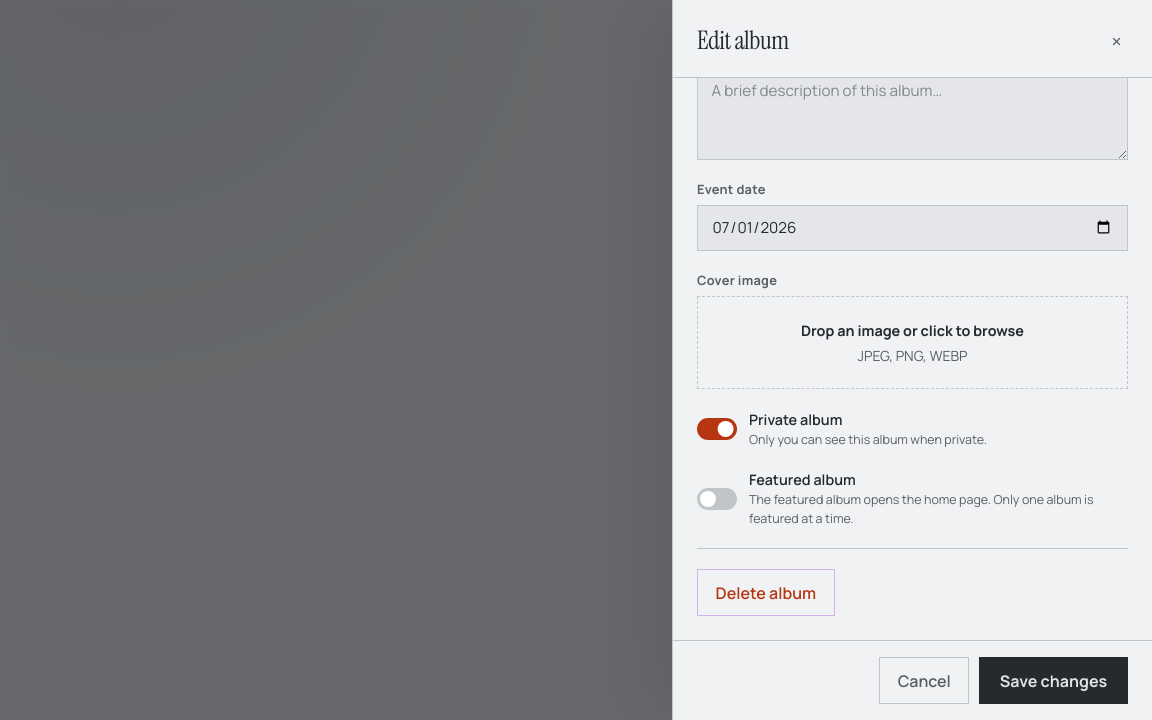
Test case: deleting an album › keeps the form open and shows the error when the delete fails
The width and height of the screenshot is (1152, 720).
(page scrolled)
Click the button "Delete album": (766, 593) [697,569,835,616]
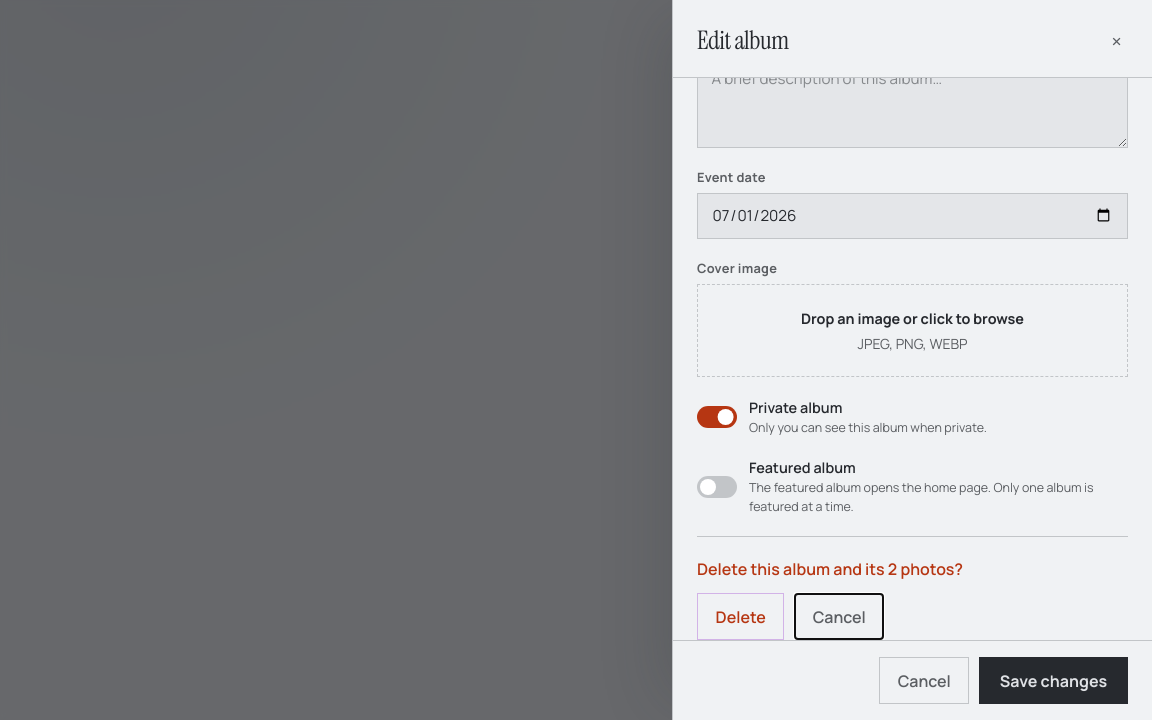
Click the button "Delete": (741, 617) [697,593,784,640]
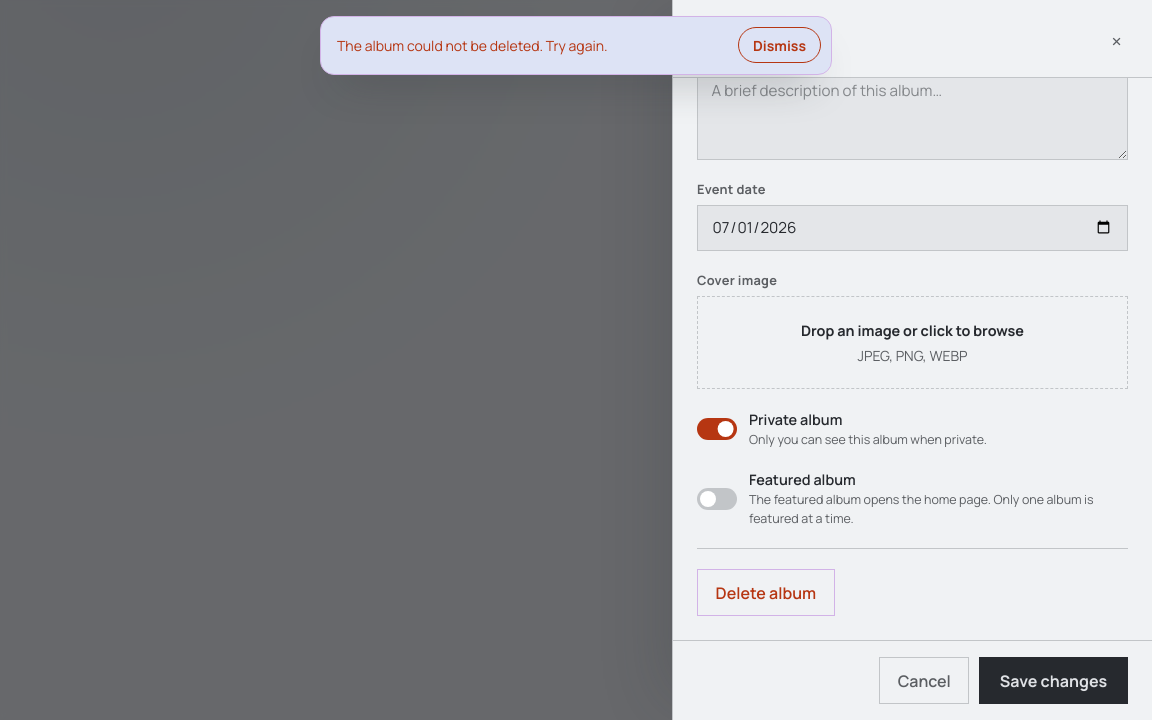
Expected: the dialog "Edit album" is shown, [672,0,1151,719]
Now the message shows "The album could not be deleted. Try again.", box [337,36,608,55]
